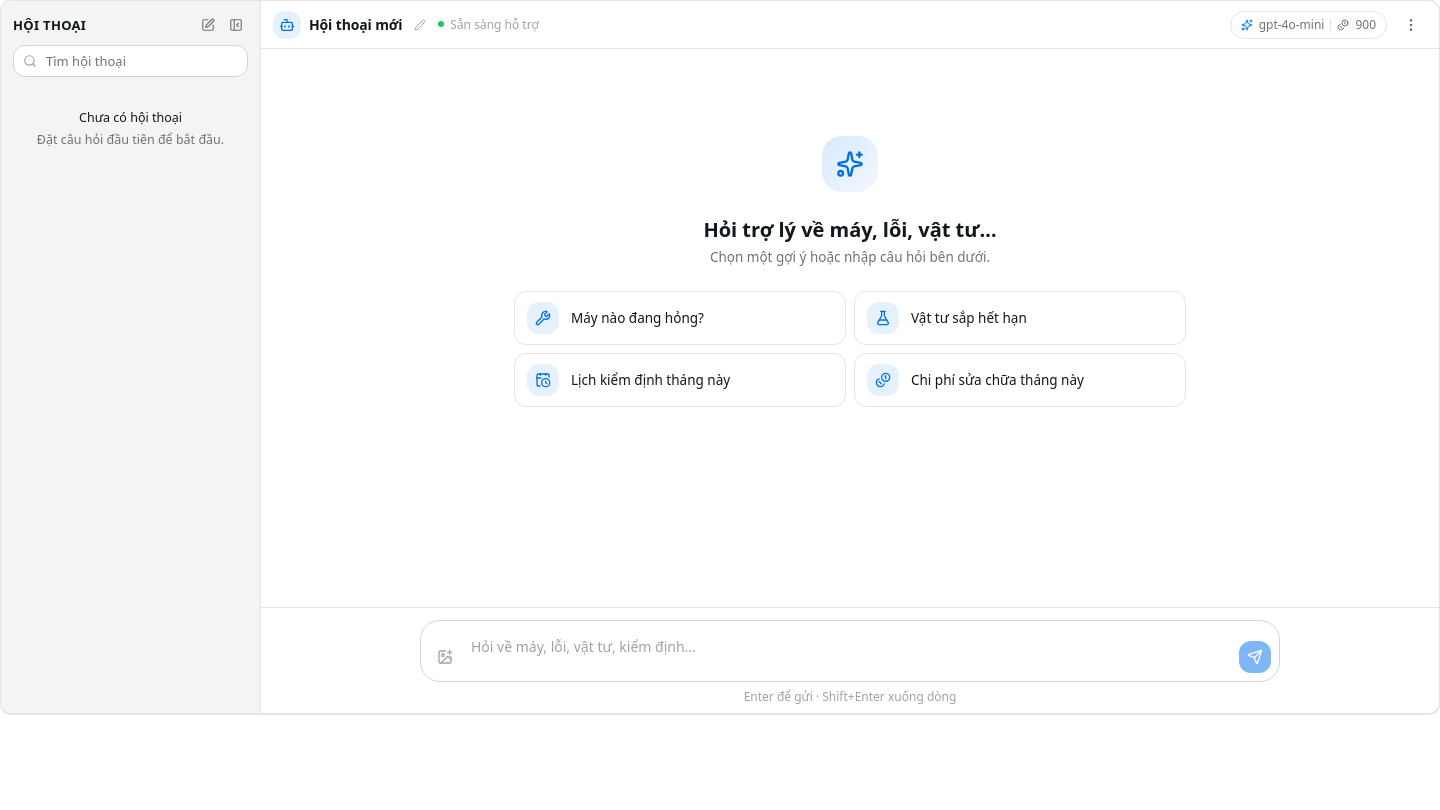
Test: shows SSE error in the assistant bubble and retries the same question
The image size is (1440, 810).
In the text box named "Câu hỏi": point(850, 651) [465, 629, 1235, 673], type "Máy nào hỏng?"
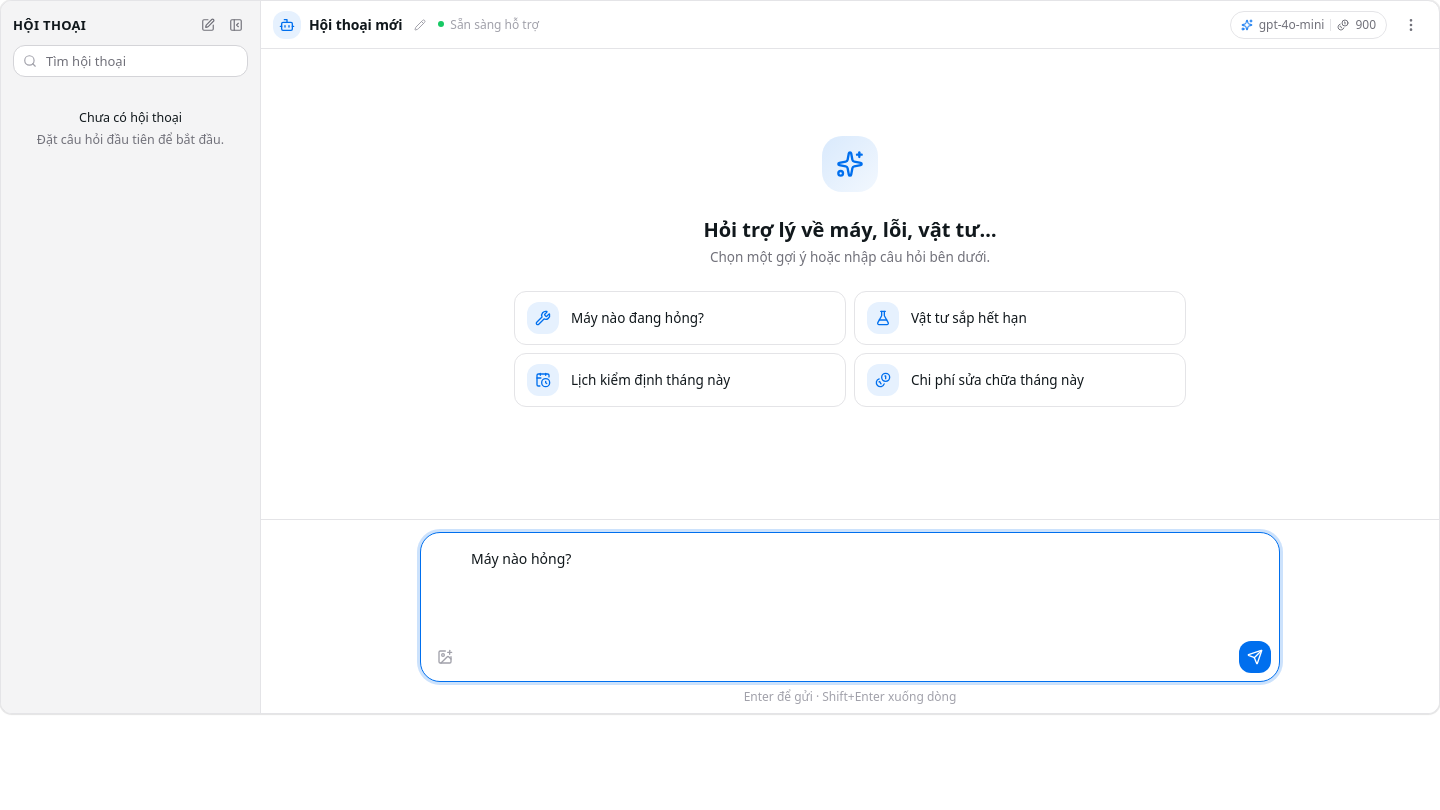
Click the button named "Gửi": point(1255, 657) [1239, 641, 1271, 673]
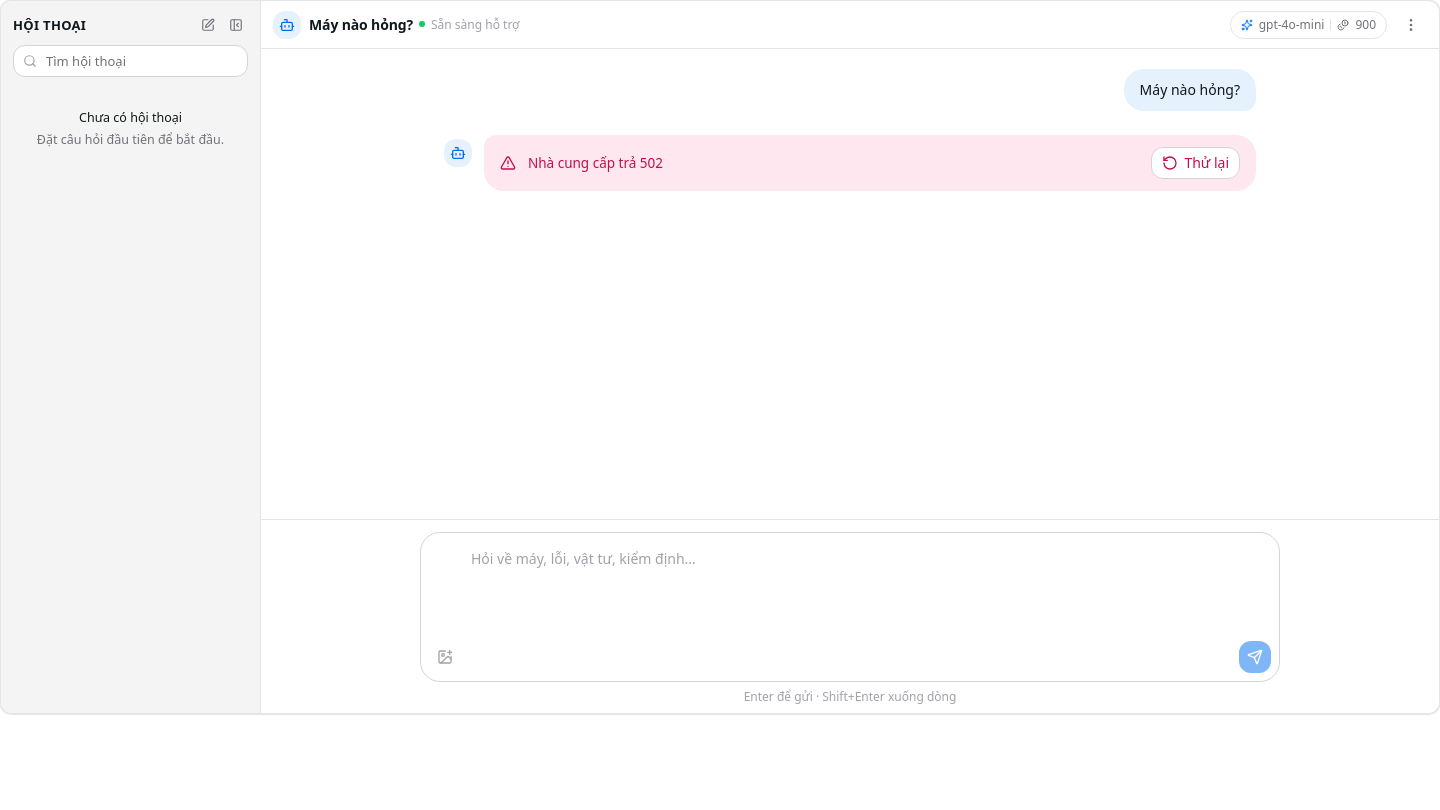
Expected: the message shows "Nhà cung cấp trả 502", [528, 154, 663, 172]
Click the button "Thử lại": point(1196, 163) [1151, 147, 1240, 179]
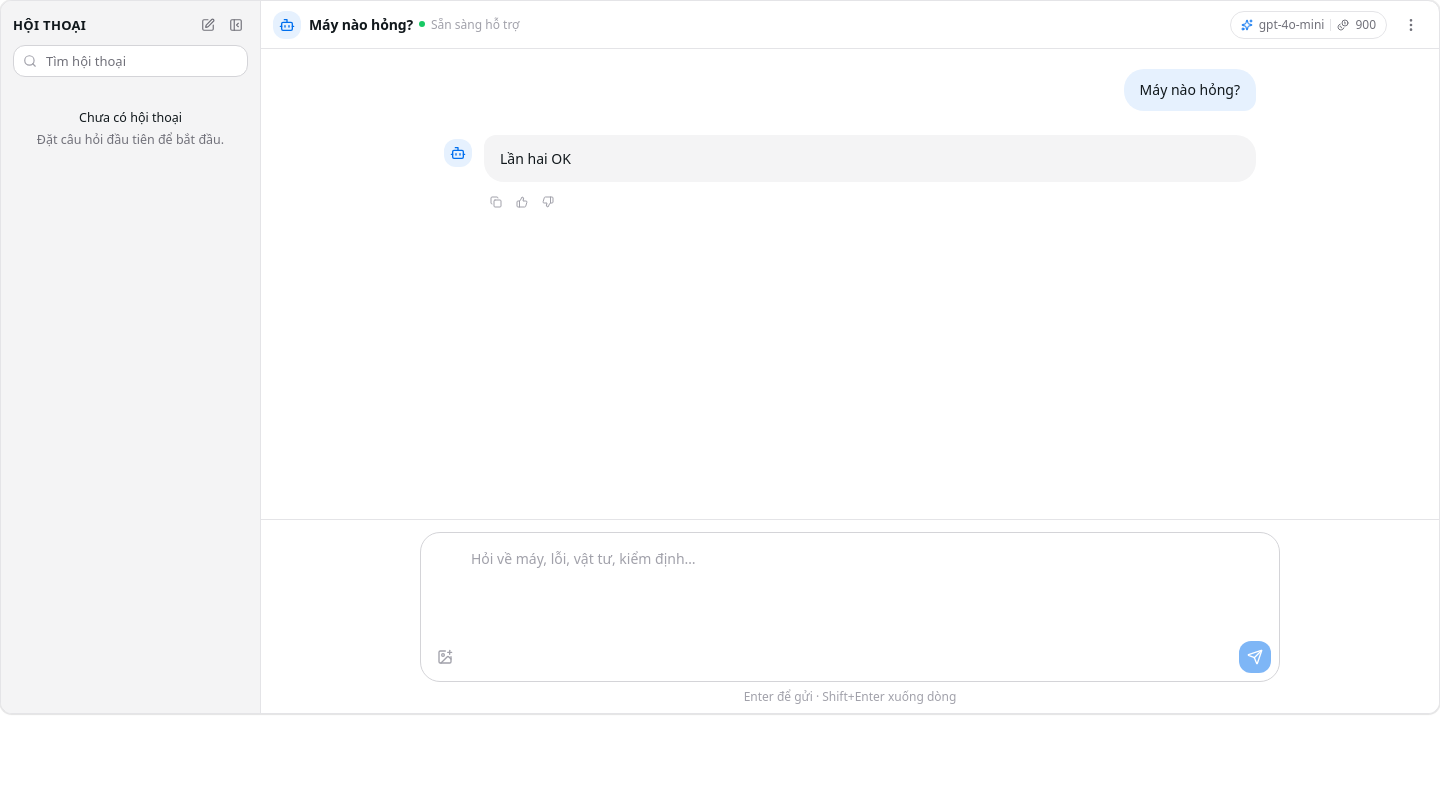
Expected: the text "Lần hai OK" is shown, [500, 149, 571, 168]
Expected: the message "Nhà cung cấp trả 502 Thử lại" is gone
